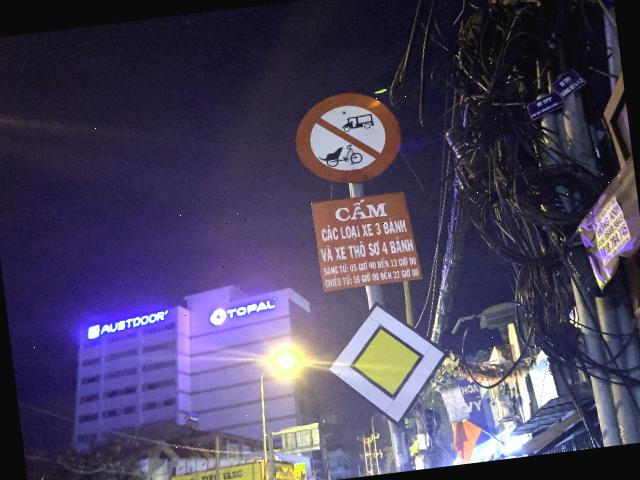bat-dau-duong-uu-tien: (317, 292, 458, 435)
cam-xe-3-banh-xe-tho-so-4-banh: (290, 86, 406, 190)
